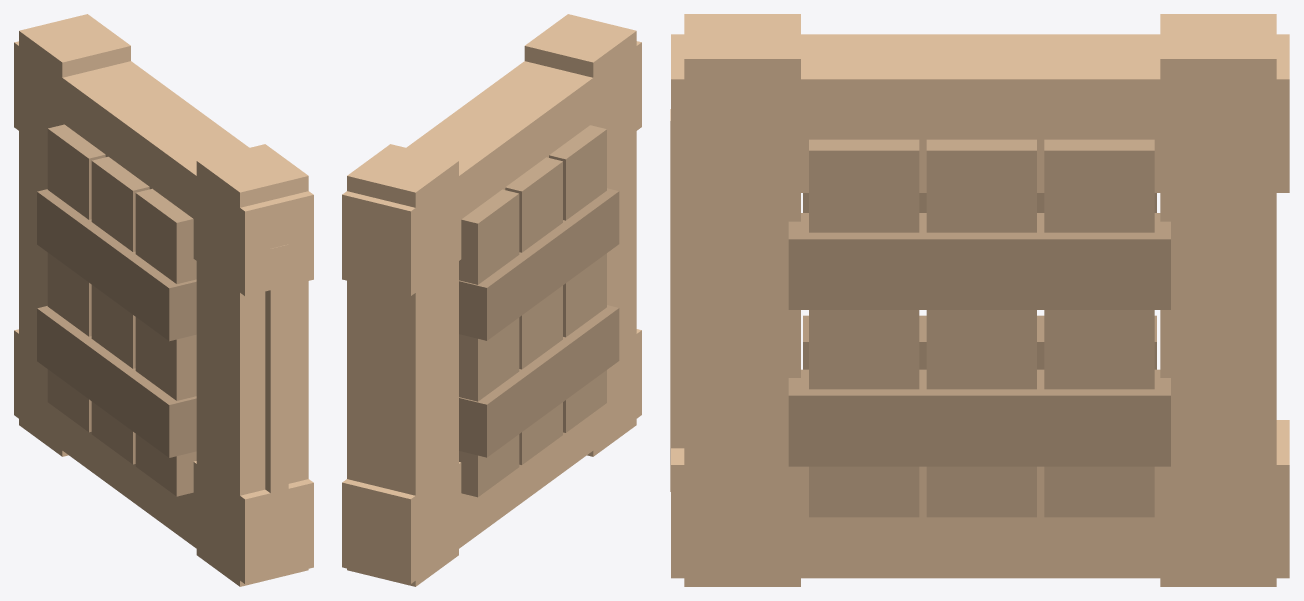
The model's file is Cuaso.fbx.
The picture shows the model from 3 angles, left to right: view 1: azimuth 30°, elevation 25°; view 2: azimuth 150°, elevation 25°; view 3: azimuth 270°, elevation 25°; orthographic projection. The views are drawn at different scales.
Visible parts, largest first — view 1: Cube.001, Cube.002, Cube.003, Cube, Cube.012, Cube.011, Cube.010, Cube.013, Cube.014, Cube.006; view 2: Cube, Cube.002, Cube.001, Cube.003, Cube.013, Cube.011, Cube.010, Cube.014, Cube.012; view 3: Cube, Cube.001, Cube.002, Cube.003, Cube.009, Cube.008, Cube.005, Cube.004, Cube.007, Cube.006, Cube.010.
Part boxes in pixels (<box>): Cube.001: <box>196,144,308,586</box>; Cube.002: <box>14,41,313,296</box>; Cube.003: <box>14,329,313,584</box>; Cube: <box>19,14,130,456</box>; Cube.012: <box>135,188,196,496</box>; Cube.011: <box>37,189,196,341</box>; Cube.010: <box>37,306,196,457</box>; Cube.013: <box>47,124,105,432</box>; Cube.014: <box>91,156,149,464</box>; Cube.006: <box>265,244,288,525</box>; Cube: <box>347,144,458,586</box>; Cube.002: <box>342,41,641,296</box>; Cube.001: <box>524,14,636,456</box>; Cube.003: <box>342,329,641,583</box>; Cube.013: <box>459,189,519,497</box>; Cube.011: <box>459,188,619,340</box>; Cube.010: <box>459,305,619,457</box>; Cube.014: <box>505,157,562,464</box>; Cube.012: <box>549,125,606,432</box>; Cube: <box>1160,14,1276,586</box>; Cube.001: <box>684,14,800,586</box>; Cube.002: <box>671,34,1289,192</box>; Cube.003: <box>671,420,1289,578</box>; Cube.009: <box>788,369,1170,466</box>; Cube.008: <box>788,213,1170,309</box>; Cube.005: <box>1044,139,1154,517</box>; Cube.004: <box>926,139,1036,517</box>; Cube.007: <box>809,139,919,517</box>; Cube.006: <box>670,109,684,491</box>; Cube.010: <box>803,315,1156,369</box>.
Size of the model in its own units: 0.9104 by 2.81 by 2.98.
